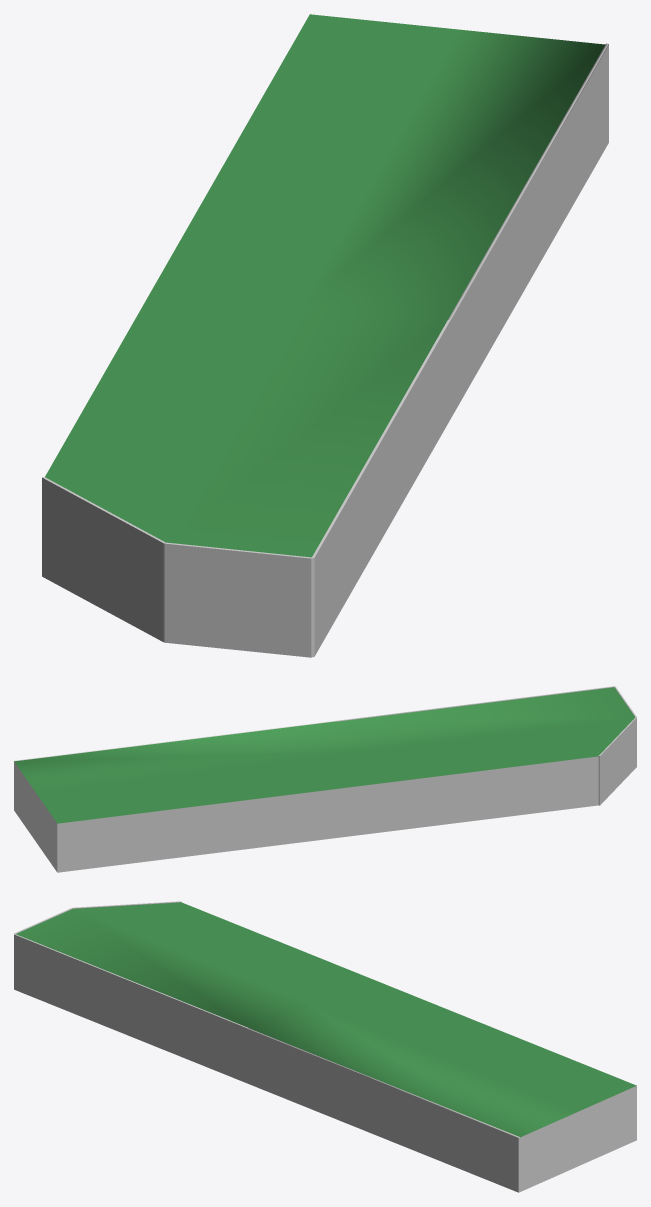
Rendered from quais4.fbx.
3 views of the same model, one above another, from view 1: azimuth 30°, elevation 25°; view 2: azimuth 150°, elevation 25°; view 3: azimuth 270°, elevation 25° (orthographic). The views are drawn at different scales.
Parts seen in each view (by area): view 1: quais4; view 2: quais4; view 3: quais4.
Part boxes in pixels (x1,y1,x2,y2): quais4: (42, 14, 608, 657); quais4: (14, 686, 636, 872); quais4: (14, 901, 636, 1192).
Size of the model in its own units: 1318 by 144 by 1468.
